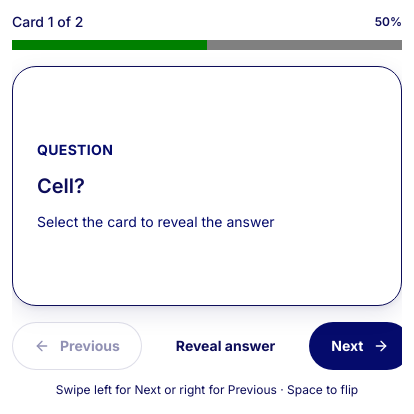
Test: FlashcardPractice › renders cards with Previous and Next buttons and flips on click
The width and height of the screenshot is (414, 414).
Check: the text "Card 1 of 2" is shown, box [12,12,83,32]
Check: the text "Cell?" is shown, box [37,174,85,198]
# Flip to answer
Click the button "Reveal answer" at point(226, 346), box [154,322,297,370]
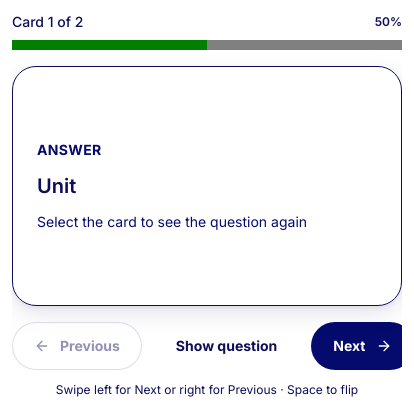
Check: the text "Unit" is shown, box [37,174,76,198]
Check: the button "Show question" is shown, box [154,322,299,370]
# Next button moves to next card
Click the button with aria-label "Next card" at point(357, 346), box [311,322,402,370]
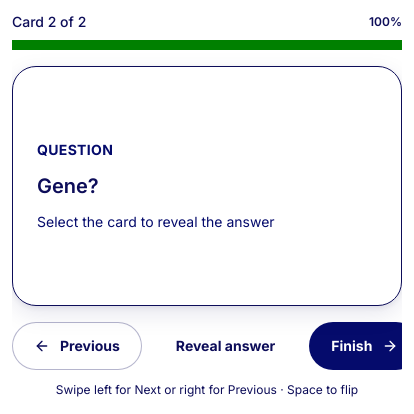
Check: the text "Card 2 of 2" is shown, box [12,12,86,32]
Check: the text "Gene?" is shown, box [37,174,99,198]
Check: the button "Previous" is enabled, box [12,322,142,370]
